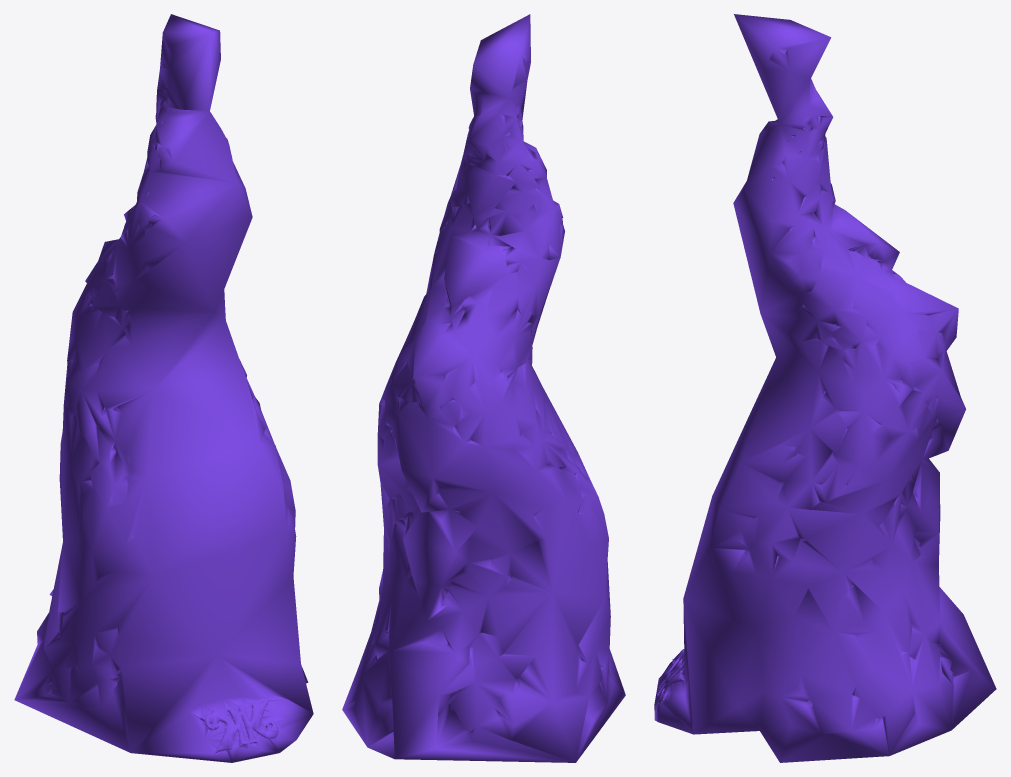
Rendered from small-flat-ar.glb.
3 renders of one model, left to right at view 1: azimuth 30°, elevation 25°; view 2: azimuth 150°, elevation 25°; view 3: azimuth 270°, elevation 25°, orthographic. The views are drawn at different scales.
Size of the model in its own units: 0.1068 by 0.2909 by 0.1304.
